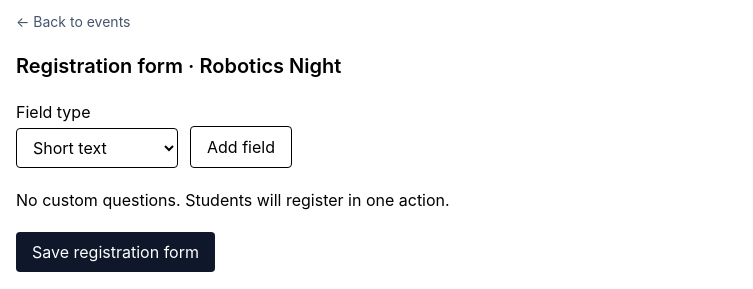
Scenario: OfficerRegistrationFormPage › refreshes into a clear locked view when the first Registration wins the save race
What coordinates should you click on to do the following:
click the button "Save registration form"
I would click on:
 (116, 252)
Its box is 16,232 -> 215,272.
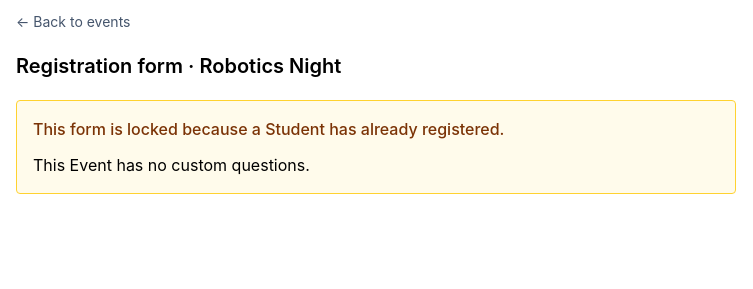
Check: the text "locked because a Student has already registered" is shown, box 33,119 -> 504,139
Check: the button "Save registration form" is gone
